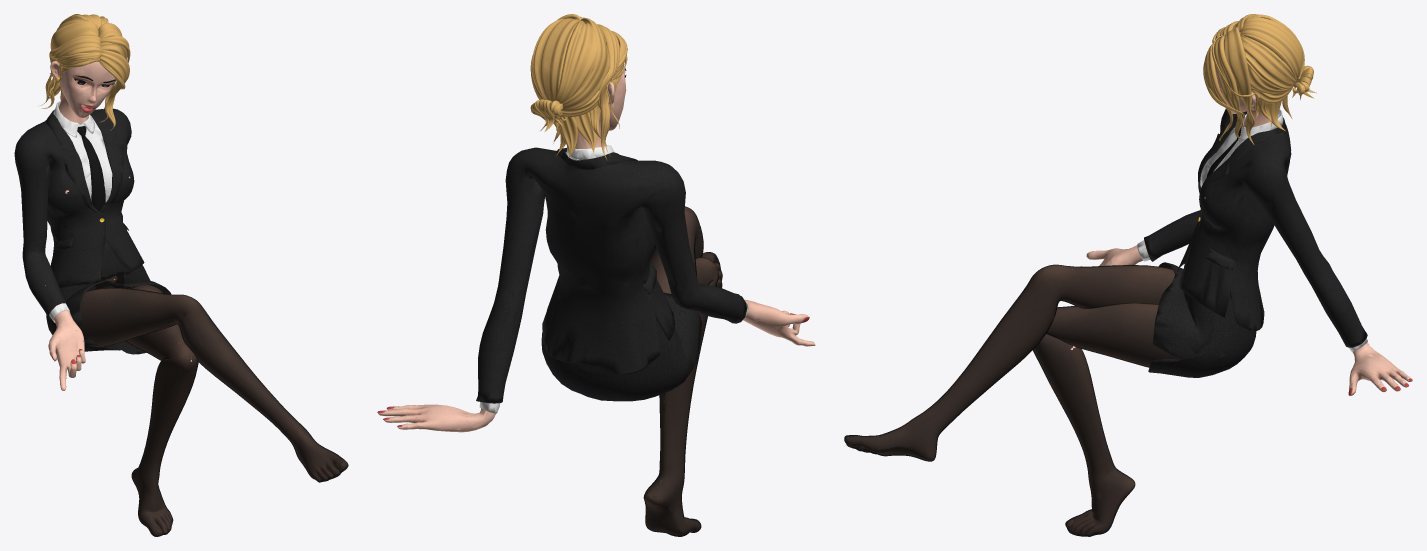
Rendered from office-lady.glb.
The picture shows the model from 3 angles, left to right: view 1: azimuth 30°, elevation 25°; view 2: azimuth 150°, elevation 25°; view 3: azimuth 270°, elevation 25°; orthographic projection. The views are drawn at different scales.
Parts seen in each view (by area): view 1: Object_5, Object_7, Object_8, Object_10, Object_12, Object_16, Object_9, Object_13; view 2: Object_8, Object_5, Object_7, Object_9, Object_12, Object_10, Object_11, Object_16; view 3: Object_5, Object_7, Object_8, Object_12, Object_9, Object_10, Object_16, Object_11.
Boxes of the visible parts, x1,y1,x2,y2 form: Object_5: (48,61,347,535); Object_7: (79,271,348,536); Object_8: (14,108,144,320); Object_10: (38,34,130,130); Object_12: (46,240,171,354); Object_16: (45,101,112,322); Object_9: (49,14,122,93); Object_13: (77,126,105,211); Object_8: (476,147,746,403); Object_5: (378,66,815,534); Object_7: (643,206,722,536); Object_9: (530,14,627,143); Object_12: (541,292,701,401); Object_10: (530,17,625,159); Object_11: (533,55,627,158); Object_16: (479,145,748,413); Object_5: (845,42,1412,535); Object_7: (844,264,1187,536); Object_8: (1144,109,1367,347); Object_12: (1148,258,1256,377); Object_9: (1212,14,1313,144); Object_10: (1203,21,1297,140); Object_16: (1137,109,1367,351); Object_11: (1253,67,1316,130).
Bounding box in the file's own units: 1.22 × 2.65 × 2.63.
Materials: 15 (11 with a texture image).
